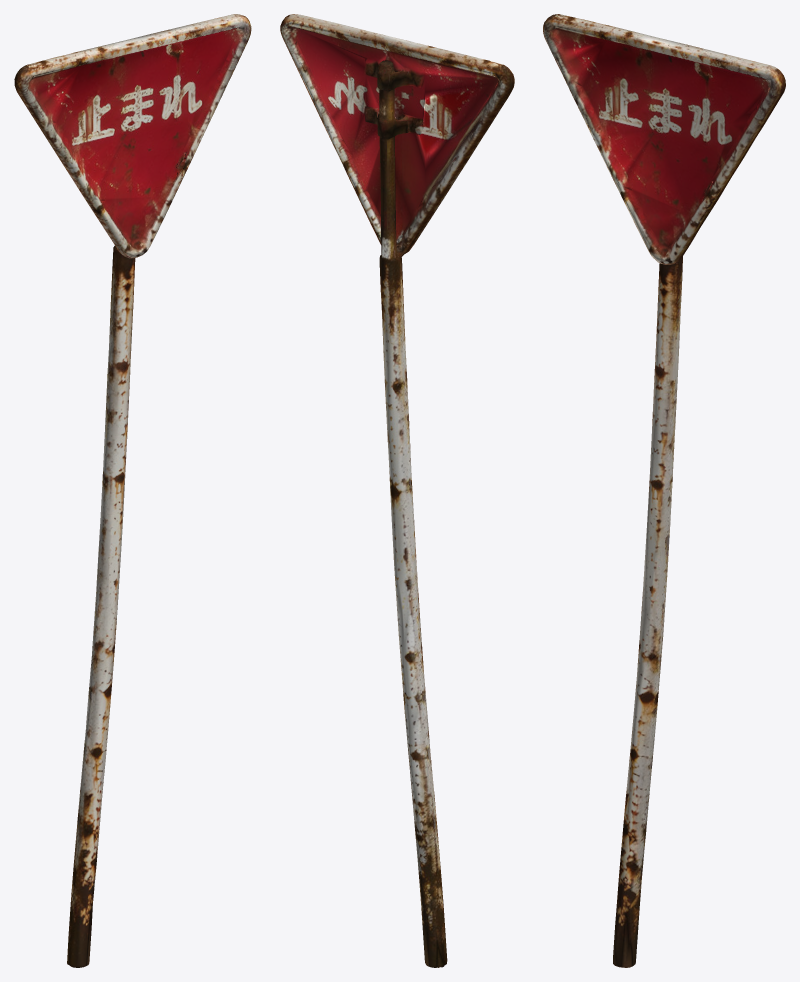
Rendered from rusty-stop-sign.glb.
3 views of the same model, side by side, from view 1: azimuth 30°, elevation 25°; view 2: azimuth 150°, elevation 25°; view 3: azimuth 330°, elevation 25° (orthographic). The views are drawn at different scales.
Parts seen in each view (by area): view 1: mesh_node; view 2: mesh_node; view 3: mesh_node.
Boxes of the visible parts, box(x1,y1,x2,y2) form: mesh_node: box(14, 14, 251, 967); mesh_node: box(280, 14, 514, 967); mesh_node: box(543, 14, 785, 967).
Bounding box in the file's own units: 0.5078 × 1.9 × 0.0703.
1 material, 1 textured.
